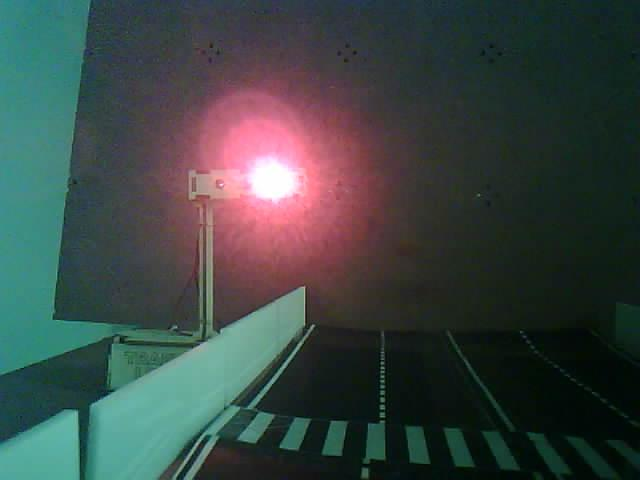crosswalk: (165, 380, 640, 480)
red: (134, 79, 391, 355)
